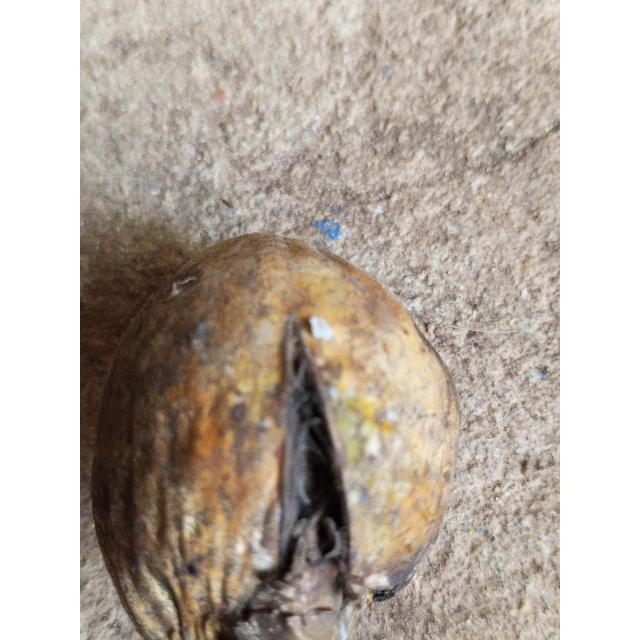damaged: (89, 233, 461, 640)
